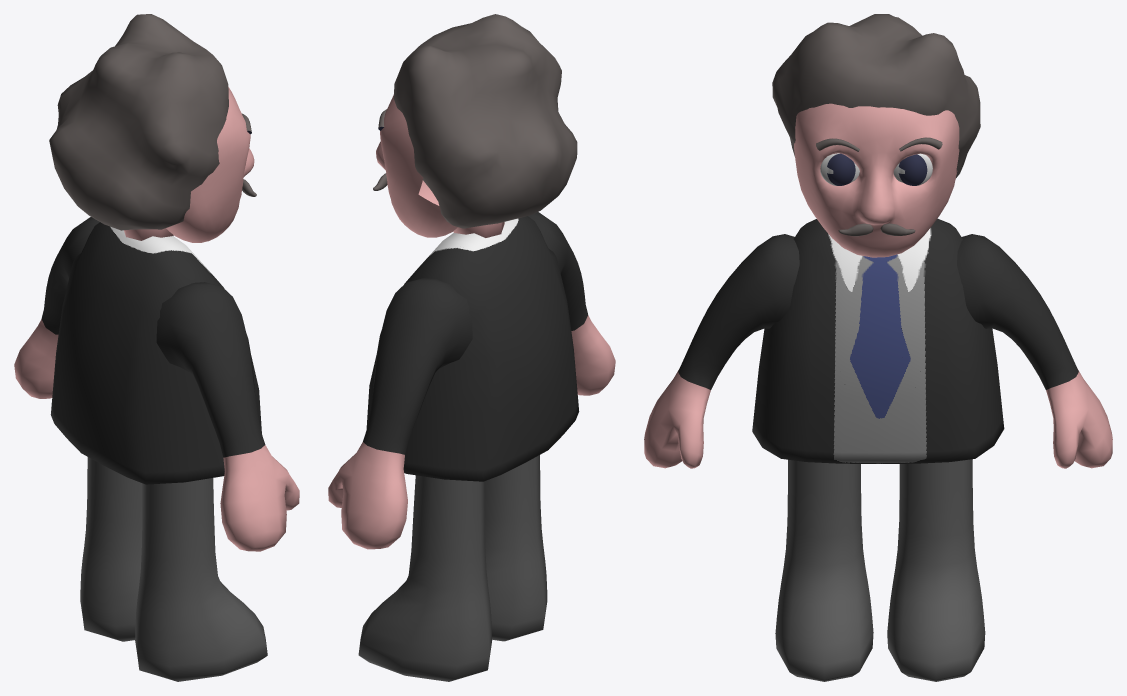
Rendered from Superior_NoWalky.fbx.
3 renders of one model, left to right at view 1: azimuth 30°, elevation 25°; view 2: azimuth 150°, elevation 25°; view 3: azimuth 270°, elevation 25°, orthographic.
Parts seen in each view (by area): view 1: Superior; view 2: Superior; view 3: Superior.
Boxes of the visible parts, x1,y1,x2,y2 form: Superior: (14,14,299,681); Superior: (328,14,615,681); Superior: (644,14,1112,681).
Size of the model in its own units: 50.05 by 156 by 106.
